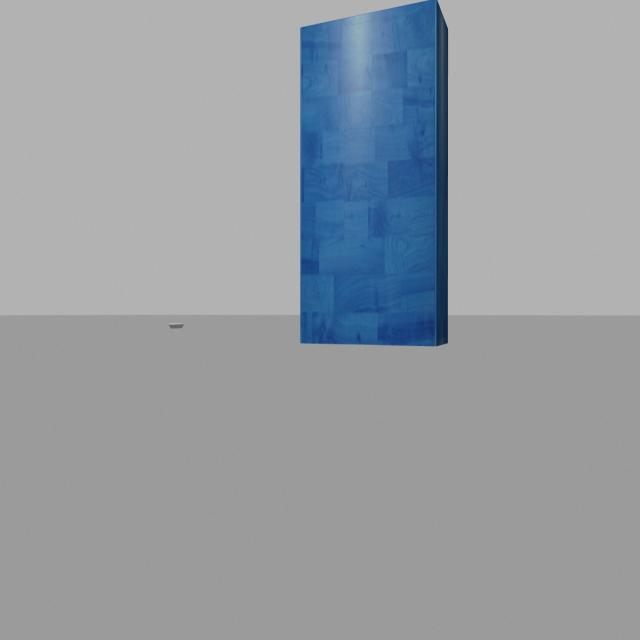bowl: (165, 320, 189, 332)
shelf: (281, 0, 459, 365)
